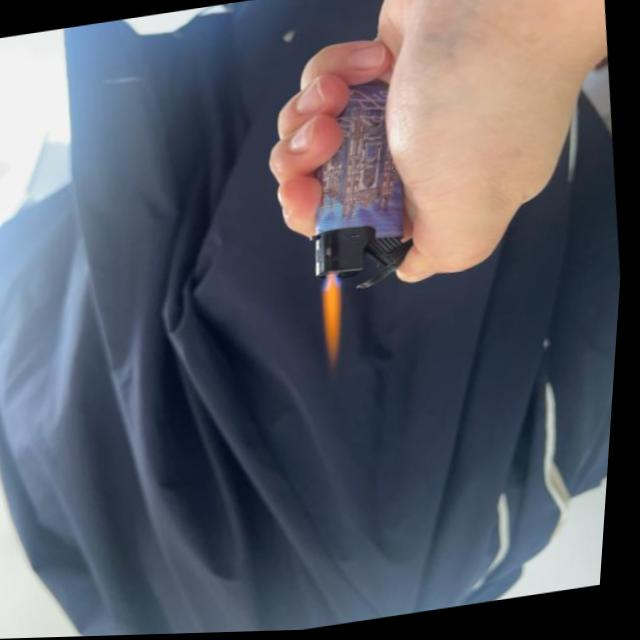Fire: (318, 275, 358, 366)
